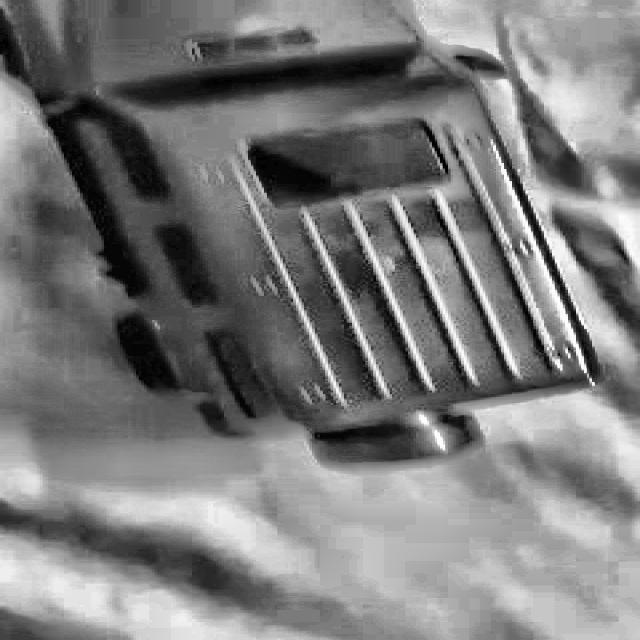light_vehicle: (0, 0, 611, 474)
